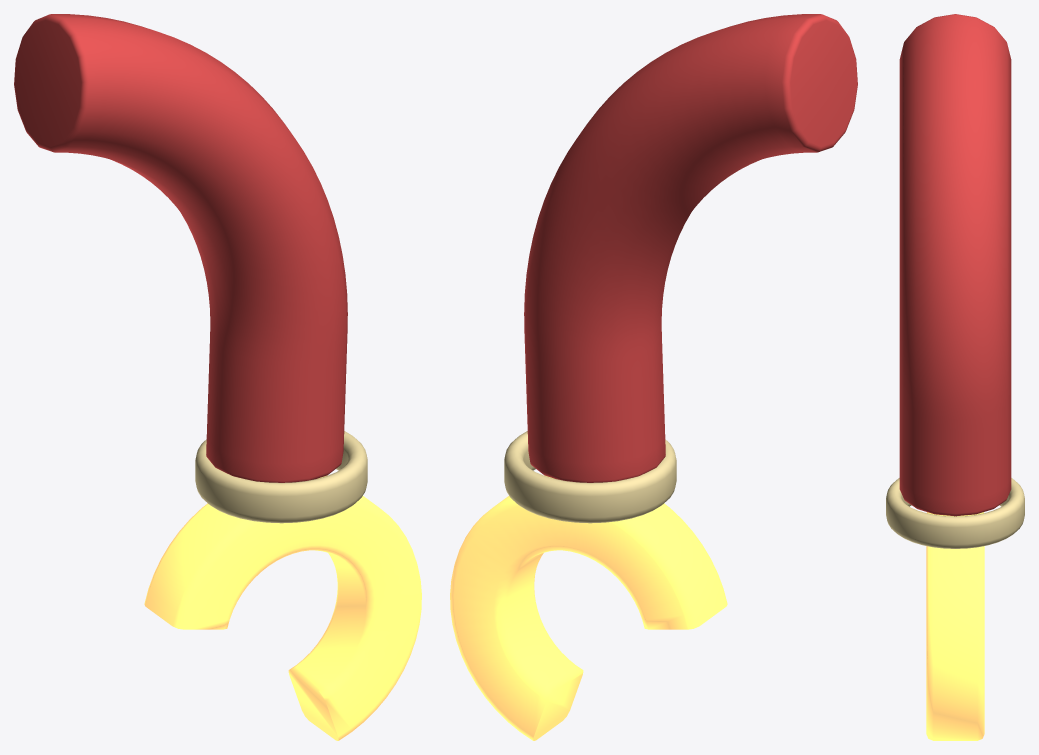
File: ToyRobotRightArm.fbx
3 views of the same model, side by side, from view 1: azimuth 30°, elevation 25°; view 2: azimuth 150°, elevation 25°; view 3: azimuth 270°, elevation 25° (orthographic). The views are drawn at different scales.
Visible parts, largest first — view 1: Arm_base_2.005; view 2: Arm_base_2.005; view 3: Arm_base_2.005.
Part boxes in pixels (x1=…): Arm_base_2.005: x1=14, y1=14, x2=421, y2=740; Arm_base_2.005: x1=450, y1=14, x2=857, y2=740; Arm_base_2.005: x1=886, y1=14, x2=1024, y2=740.
Bounding box in the file's own units: 708 × 1417 × 286.
